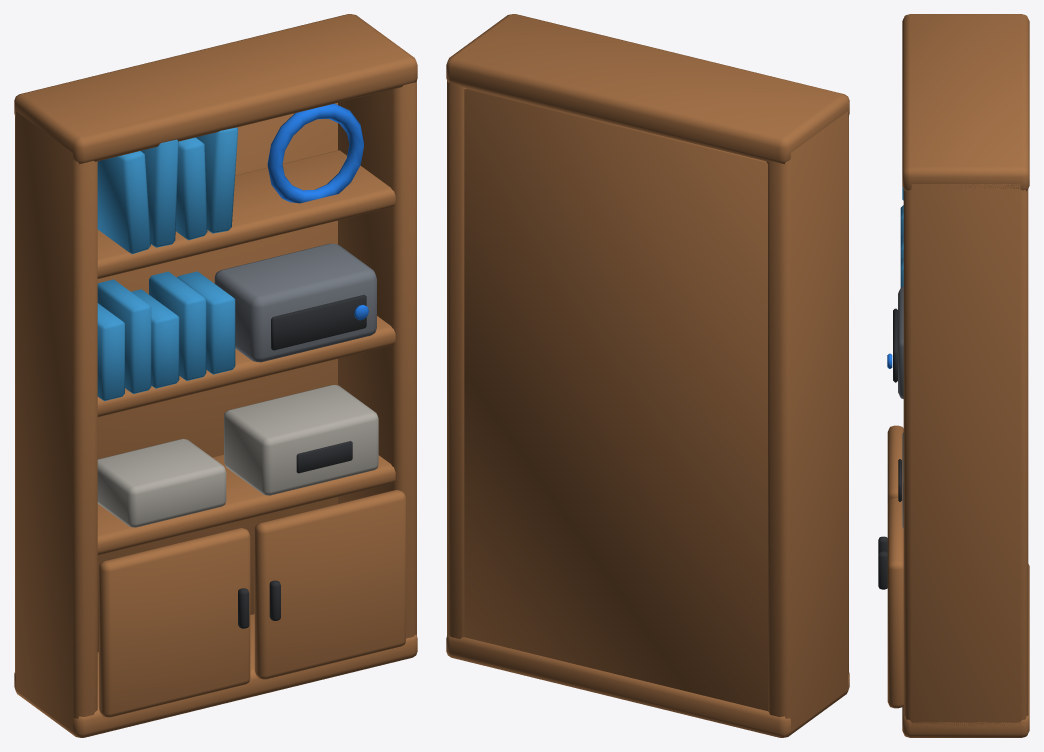
The model's file is Estante_Madeira_RedeLab.fbx.
3 views of the same model, side by side, from view 1: azimuth 30°, elevation 25°; view 2: azimuth 150°, elevation 25°; view 3: azimuth 270°, elevation 25° (orthographic). The views are drawn at different scales.
Parts seen in each view (by area): view 1: Estante_Corpo, Estante_PortasInferiores, Estante_Prateleiras, Estante_Caixas, Estante_Livros, Estante_Equipamento, Estante_Pastas, Estante_Cabo, Estante_Puxadores; view 2: Estante_Corpo; view 3: Estante_Corpo, Estante_PortasInferiores, Estante_Equipamento, Estante_Puxadores, Estante_Caixas, Estante_Livros.
Boxes of the visible parts, box(x1,y1,x2,y2) form: Estante_Corpo: box(14, 14, 417, 737); Estante_PortasInferiores: box(99, 490, 405, 717); Estante_Prateleiras: box(97, 150, 395, 555); Estante_Caixas: box(97, 385, 378, 527); Estante_Livros: box(97, 271, 235, 401); Estante_Equipamento: box(214, 243, 376, 362); Estante_Pastas: box(97, 127, 238, 254); Estante_Cabo: box(267, 103, 363, 203); Estante_Puxadores: box(238, 580, 280, 628); Estante_Corpo: box(446, 14, 849, 737); Estante_Corpo: box(902, 14, 1029, 737); Estante_PortasInferiores: box(887, 425, 903, 708); Estante_Equipamento: box(887, 286, 903, 398); Estante_Puxadores: box(878, 536, 887, 589); Estante_Caixas: box(898, 432, 903, 528); Estante_Livros: box(900, 205, 903, 287).
Size of the model in its own units: 260 by 435 by 105.
